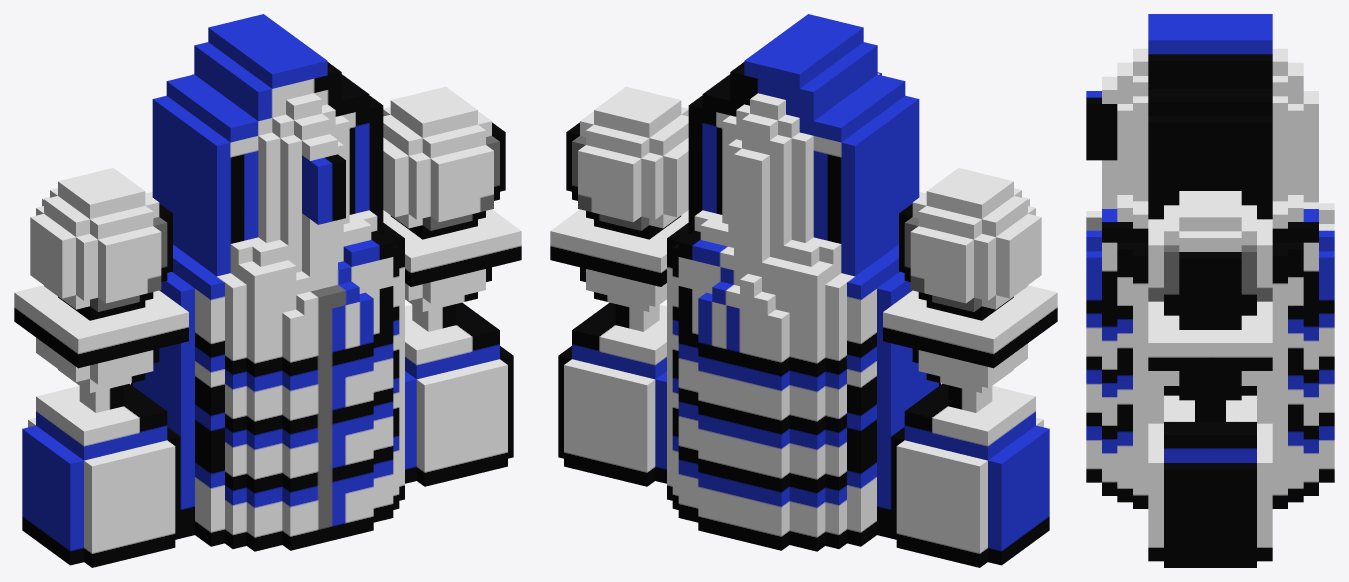
Rendered from TempleOrnamentWhite.obj.
3 renders of one model, left to right at view 1: azimuth 30°, elevation 25°; view 2: azimuth 150°, elevation 25°; view 3: azimuth 270°, elevation 25°, orthographic. The views are drawn at different scales.
Visible parts, largest first — view 1: Matrix; view 2: Matrix; view 3: Matrix.
Part boxes in pixels (bbox=[...]): Matrix: bbox=[14, 14, 521, 567]; Matrix: bbox=[550, 14, 1057, 567]; Matrix: bbox=[1086, 14, 1334, 567].
Size of the model in its own units: 3.2 by 3.1 by 1.6.
Materials: 1 (1 with a texture image).
